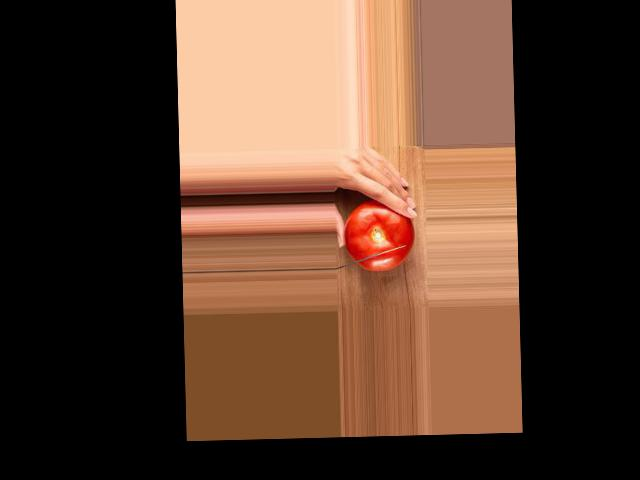tomato: (344, 199, 414, 270)
